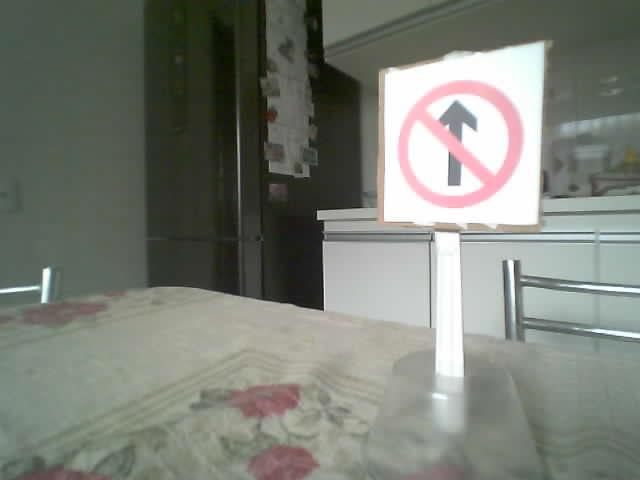R-3_sentido-proibido: (396, 78, 525, 210)
